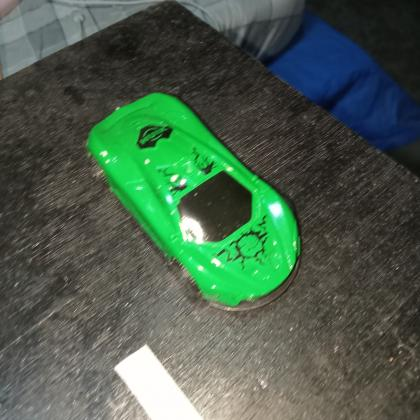Car: (82, 90, 305, 314)
